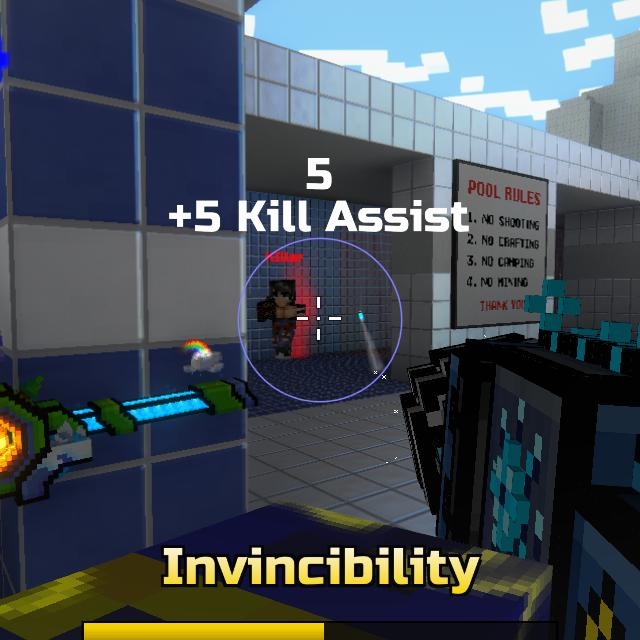Enemy: (260, 279, 305, 358)
